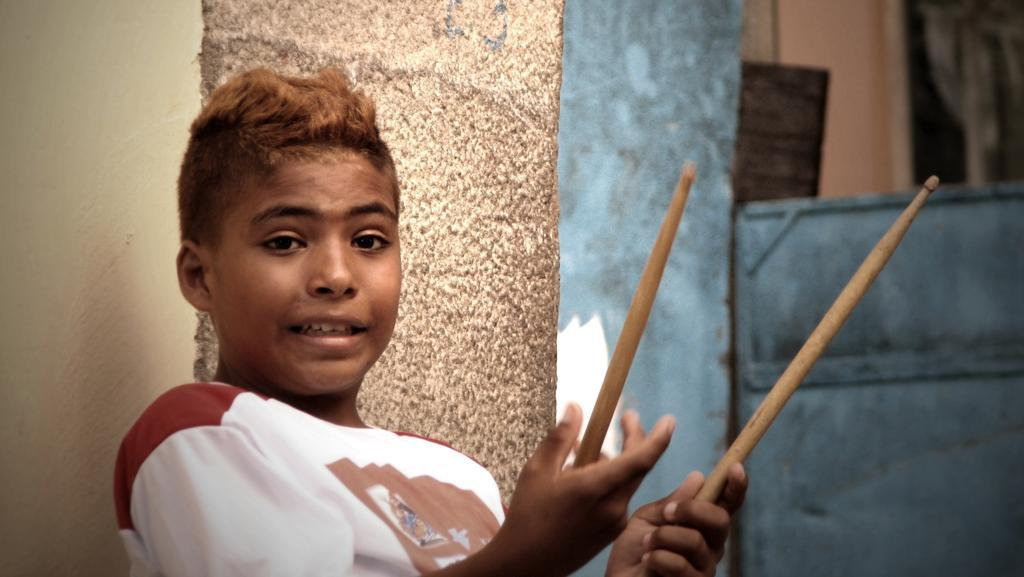face: (221, 159, 403, 389)
